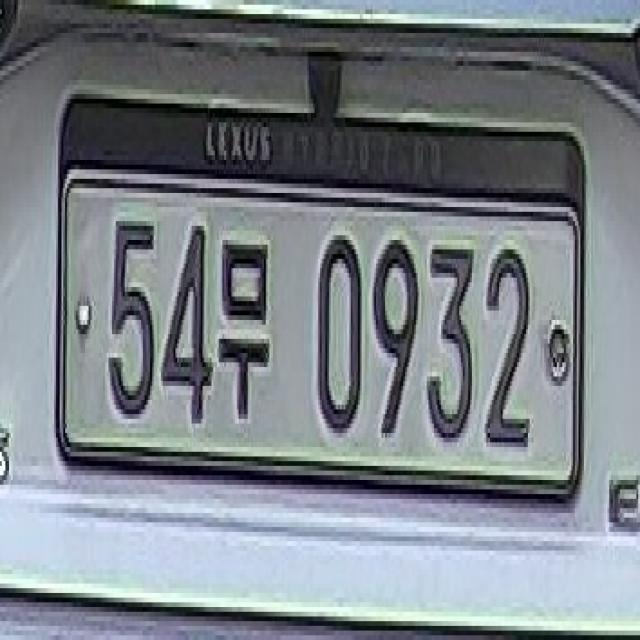0: (306, 184, 370, 456)
2: (479, 226, 541, 480)
3: (423, 240, 479, 452)
4: (161, 188, 219, 452)
5: (92, 198, 161, 428)
9: (371, 202, 428, 466)
license_plate: (47, 90, 582, 542)
mu: (212, 231, 280, 424)
